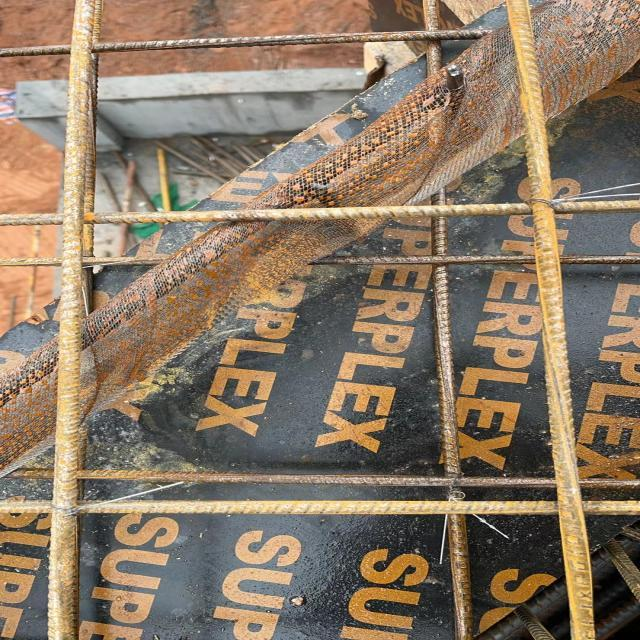ribbed bar: (508, 0, 598, 639), (45, 0, 100, 639), (422, 0, 476, 639), (0, 198, 639, 227), (0, 26, 494, 58), (0, 469, 639, 489), (0, 500, 639, 515), (0, 254, 639, 266)
